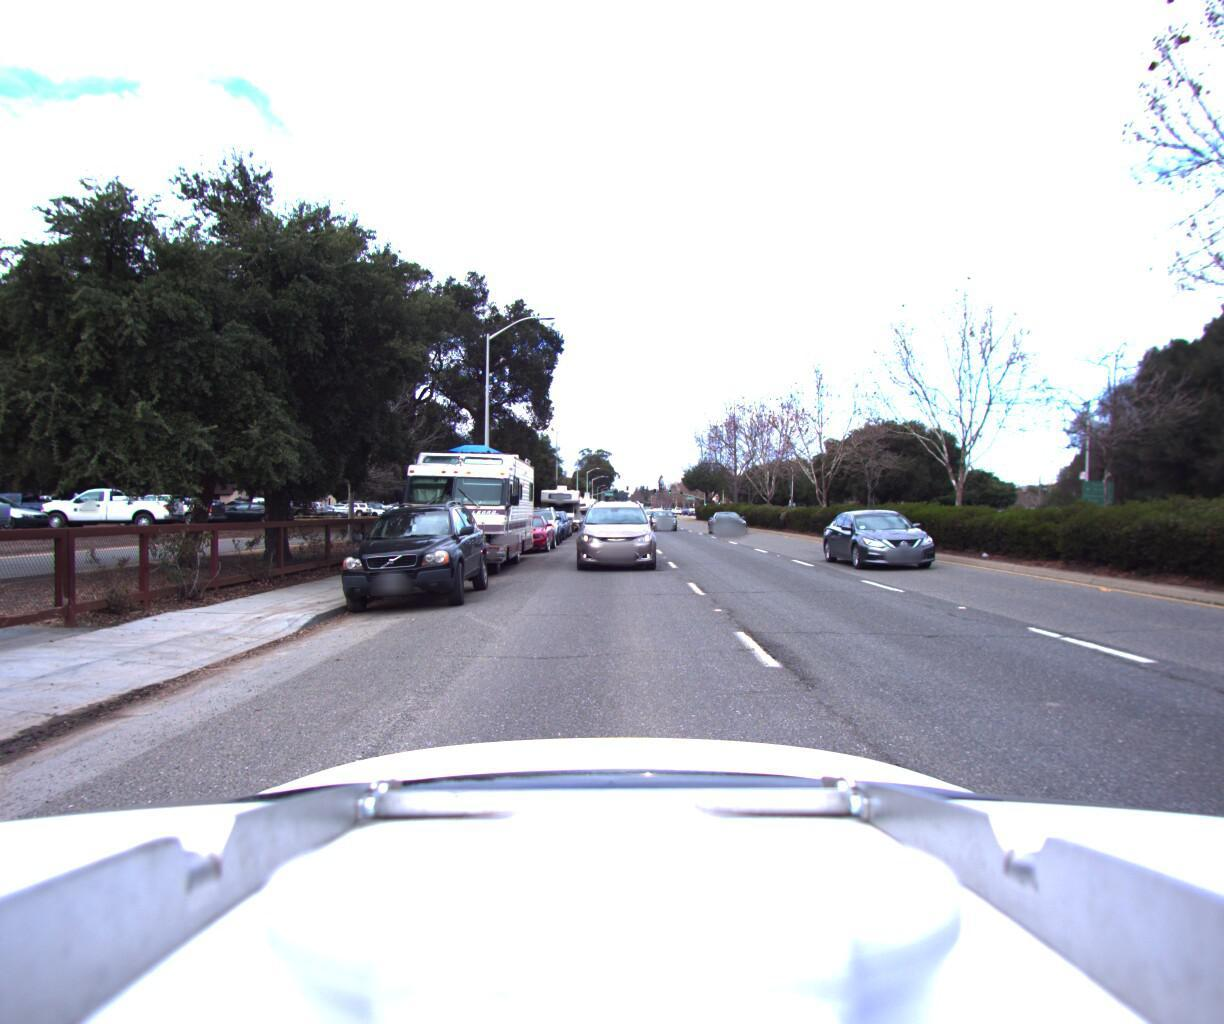car: (331, 485, 491, 611), (833, 507, 971, 576), (576, 493, 655, 574), (495, 507, 554, 550), (513, 498, 560, 540), (707, 502, 753, 531), (526, 503, 567, 535), (649, 503, 681, 527)
other_vehicle: (388, 428, 535, 579), (534, 478, 578, 529), (557, 488, 589, 523)
